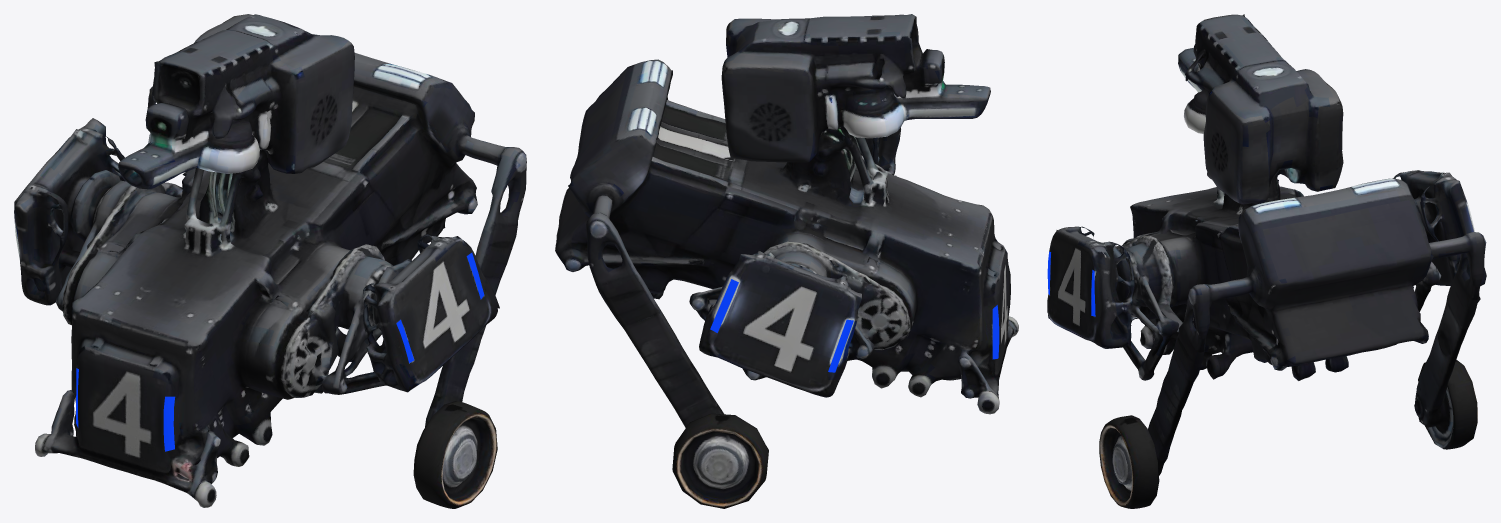
Rendered from infantry.gltf.
The picture shows the model from 3 angles, left to right: view 1: azimuth 30°, elevation 25°; view 2: azimuth 150°, elevation 25°; view 3: azimuth 270°, elevation 25°; orthographic projection. The views are drawn at different scales.
Visible parts, largest first — view 1: infantry; view 2: infantry; view 3: infantry.
Boxes of the visible parts, x1,y1,x2,y2 form: infantry: (14, 14, 526, 508); infantry: (555, 14, 1018, 508); infantry: (1047, 14, 1486, 508).
Bounding box in the file's own units: 0.5707 × 0.5415 × 0.5474.
2 materials, 1 textured.
